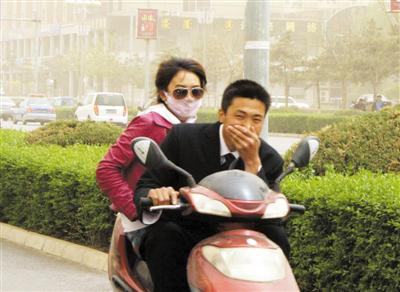NONE: (228, 109, 264, 145)
OK: (169, 83, 203, 119)
